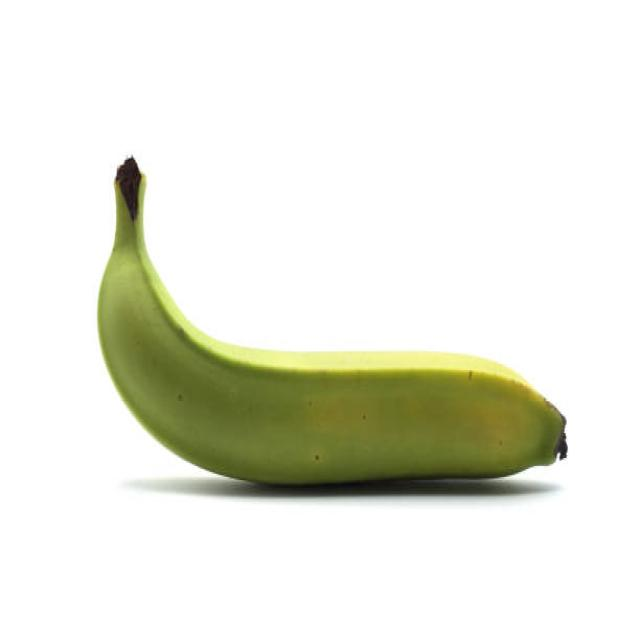banana: (96, 157, 567, 488)
